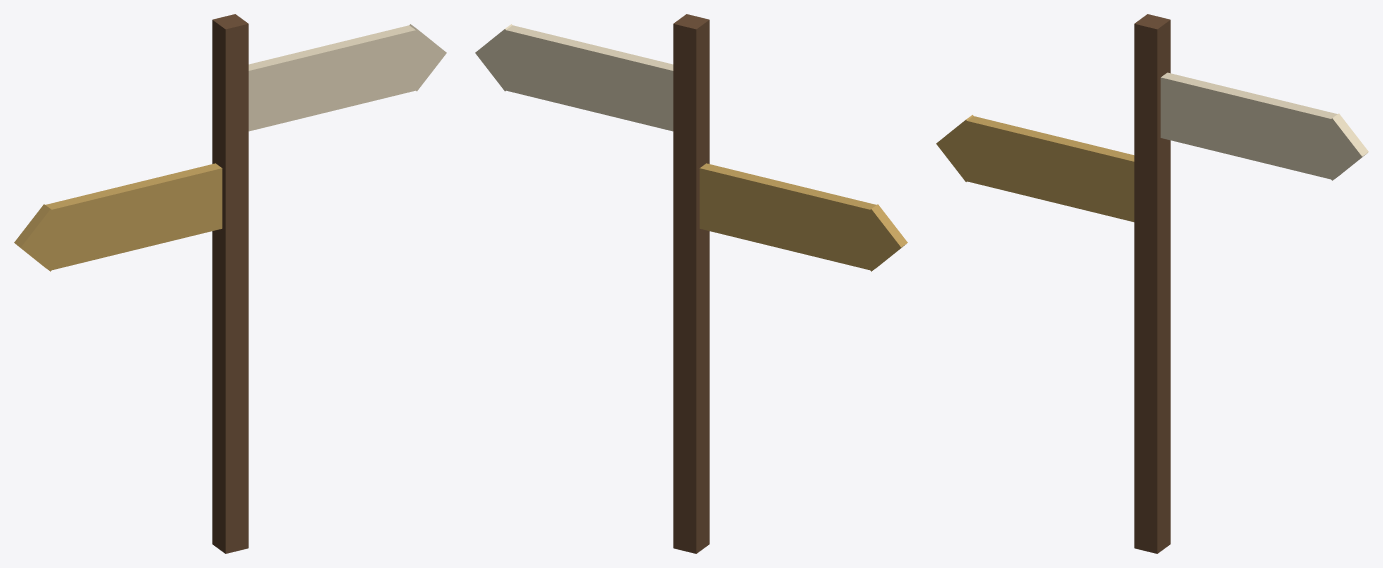
File: sign_post.glb
3 views of the same model, side by side, from view 1: azimuth 30°, elevation 25°; view 2: azimuth 150°, elevation 25°; view 3: azimuth 330°, elevation 25° (orthographic).
Parts seen in each view (by area): view 1: sign_post; view 2: sign_post; view 3: sign_post.
Part boxes in pixels (bbox=[...]): sign_post: bbox=[14, 14, 446, 553]; sign_post: bbox=[475, 14, 907, 553]; sign_post: bbox=[936, 14, 1368, 553].
Size of the model in its own units: 2.21 by 2.6 by 0.12.
